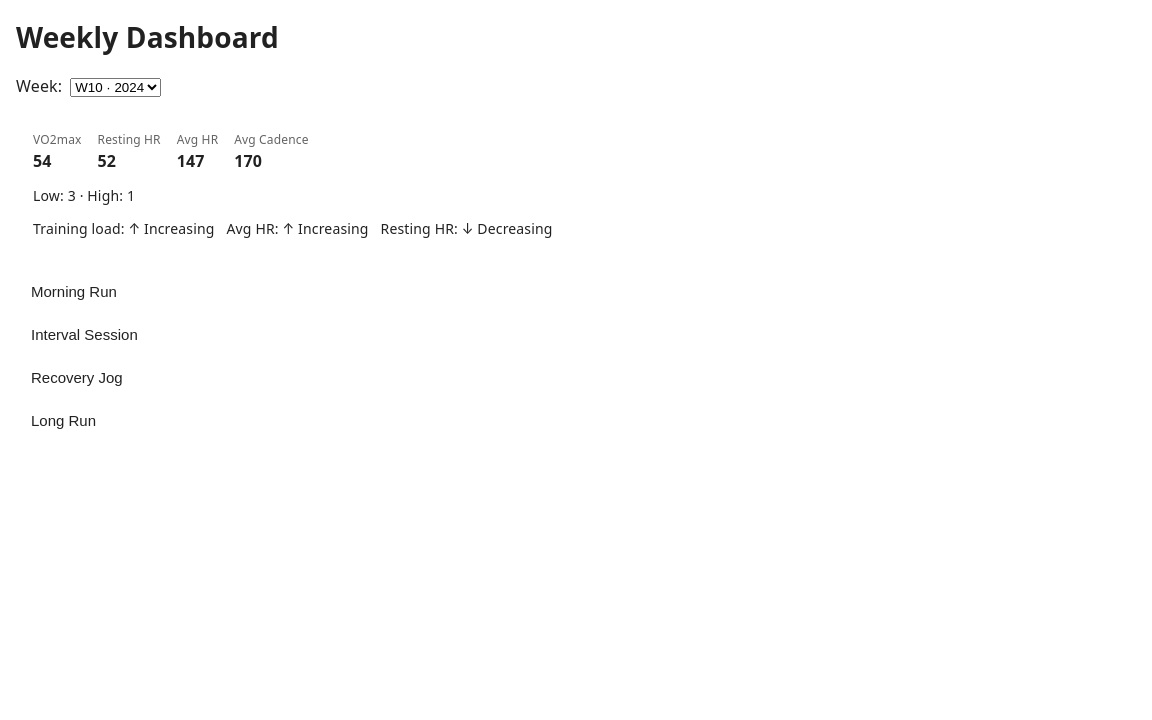
WeeklyDashboard › Activity detail close behavior › close button hides activity detail
Select "W10 · 2024" in the dropdown with test id "week-selector" at (116, 88), box left=70, top=78, right=161, bottom=97
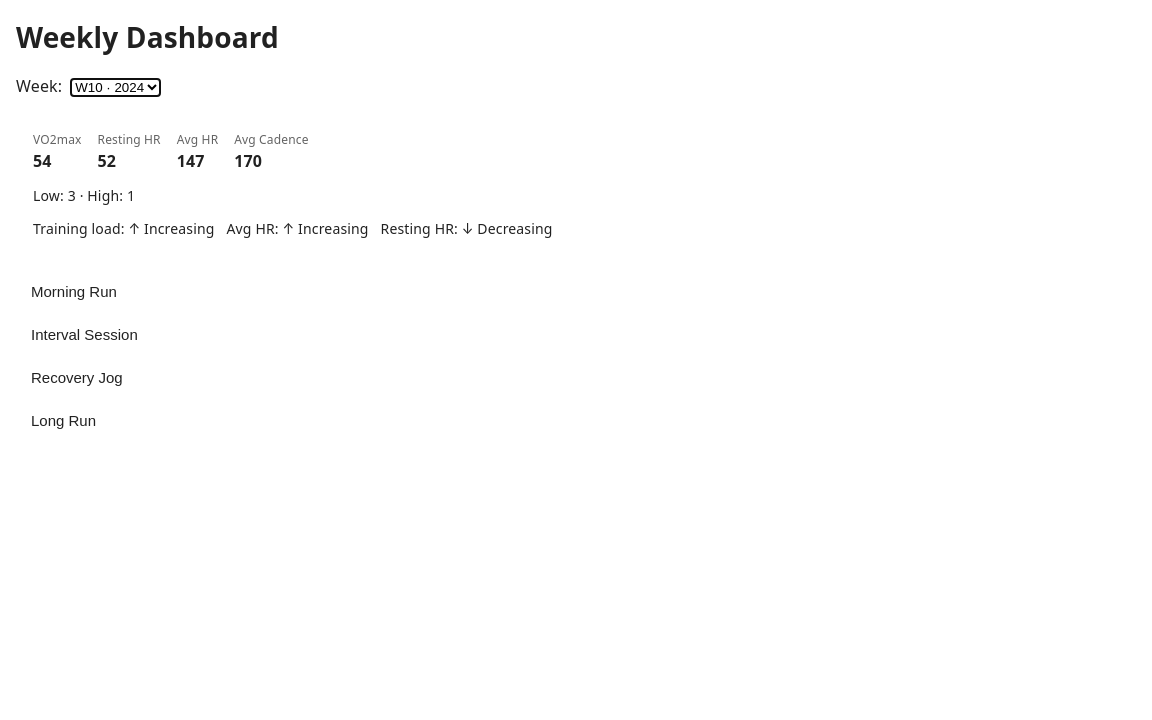
Click the button "Morning Run".
click(74, 292)  # box left=16, top=272, right=1136, bottom=311
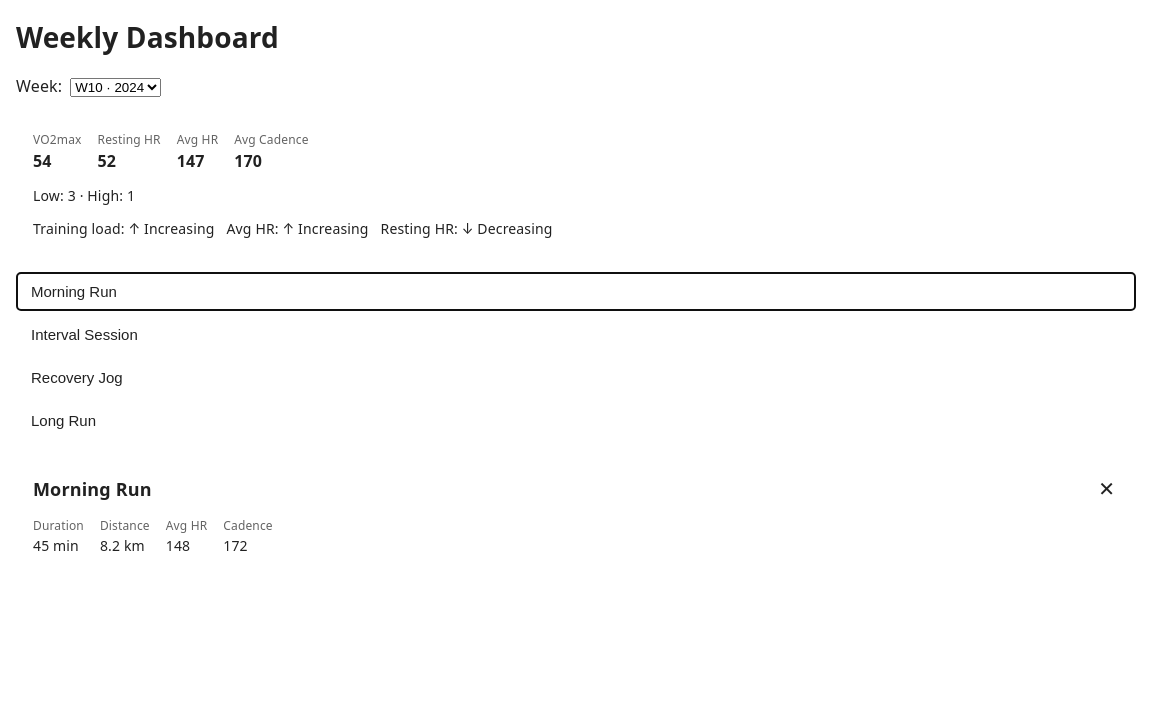
Result: the element with test id "activity-detail" is shown at left=16, top=456, right=1136, bottom=573
Click the button named "close activity details".
click(1107, 489)  # box left=1094, top=473, right=1119, bottom=505
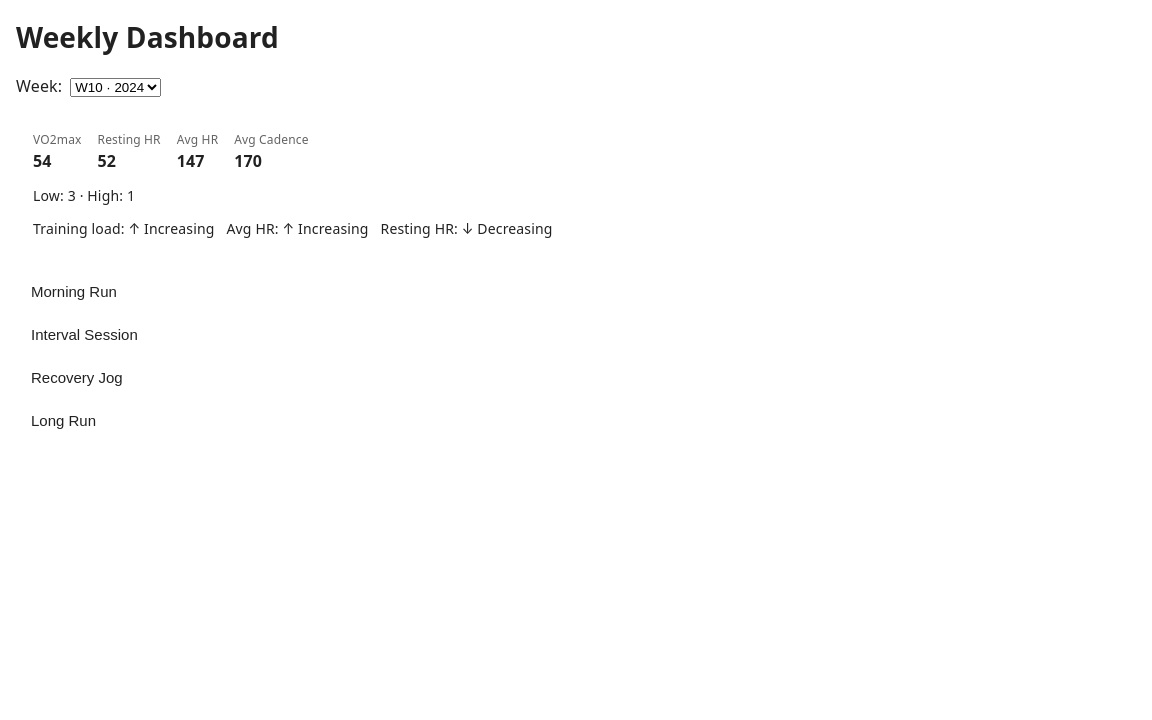
Result: the element with test id "activity-detail" is gone
